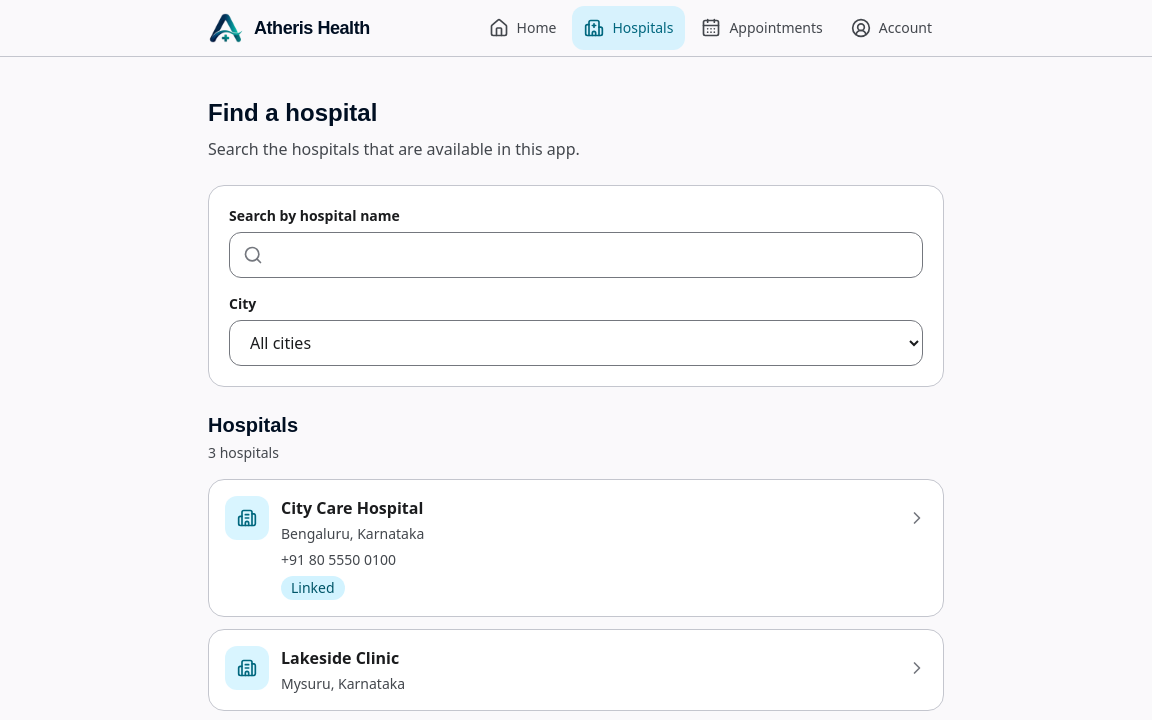
SEARCH — typing cannot flood the API, and the URL decides what is shown › a search still waiting when the patient leaves the page is dropped: no late request, no stray query on the next page
The image size is (1152, 720).
In the search field labelled "Search by hospital name": (576, 255) [229, 232, 923, 278], type "lake"
Wait 349 ms
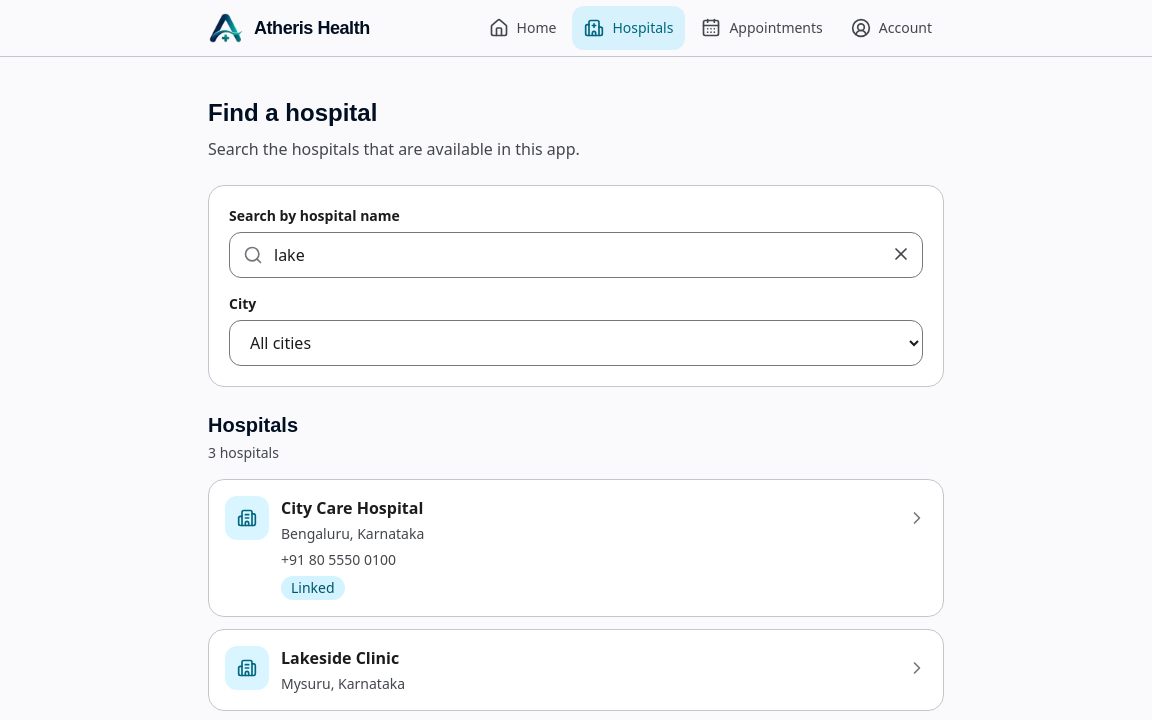
Click the link "City Care Hospital": (247, 518) [208, 479, 944, 617]
Wait 1050 ms
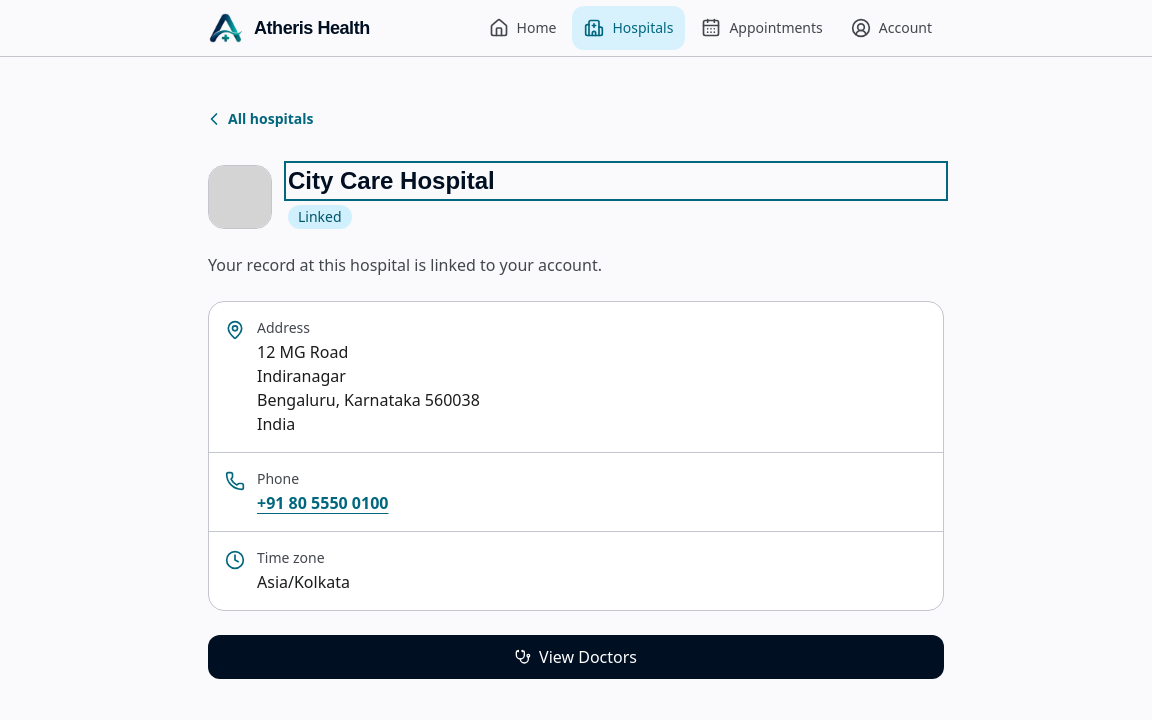
Expected: the heading "City Care Hospital" is shown, [288, 167, 495, 194]
